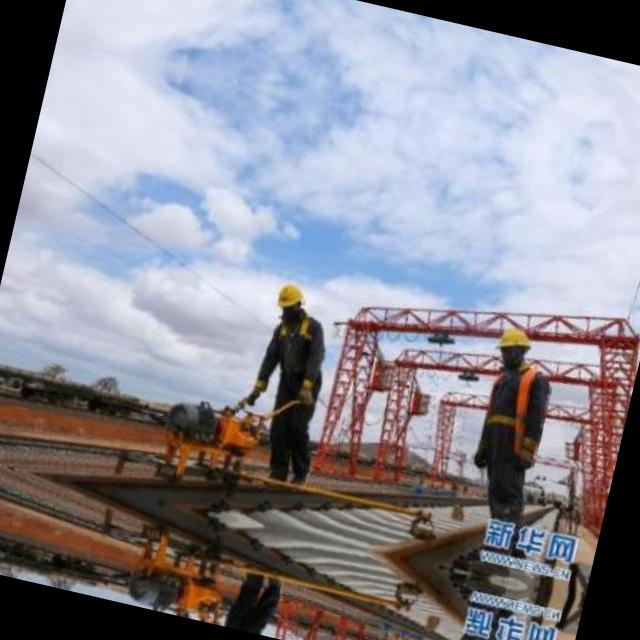helmet: (488, 316, 542, 374), (270, 278, 306, 322)
